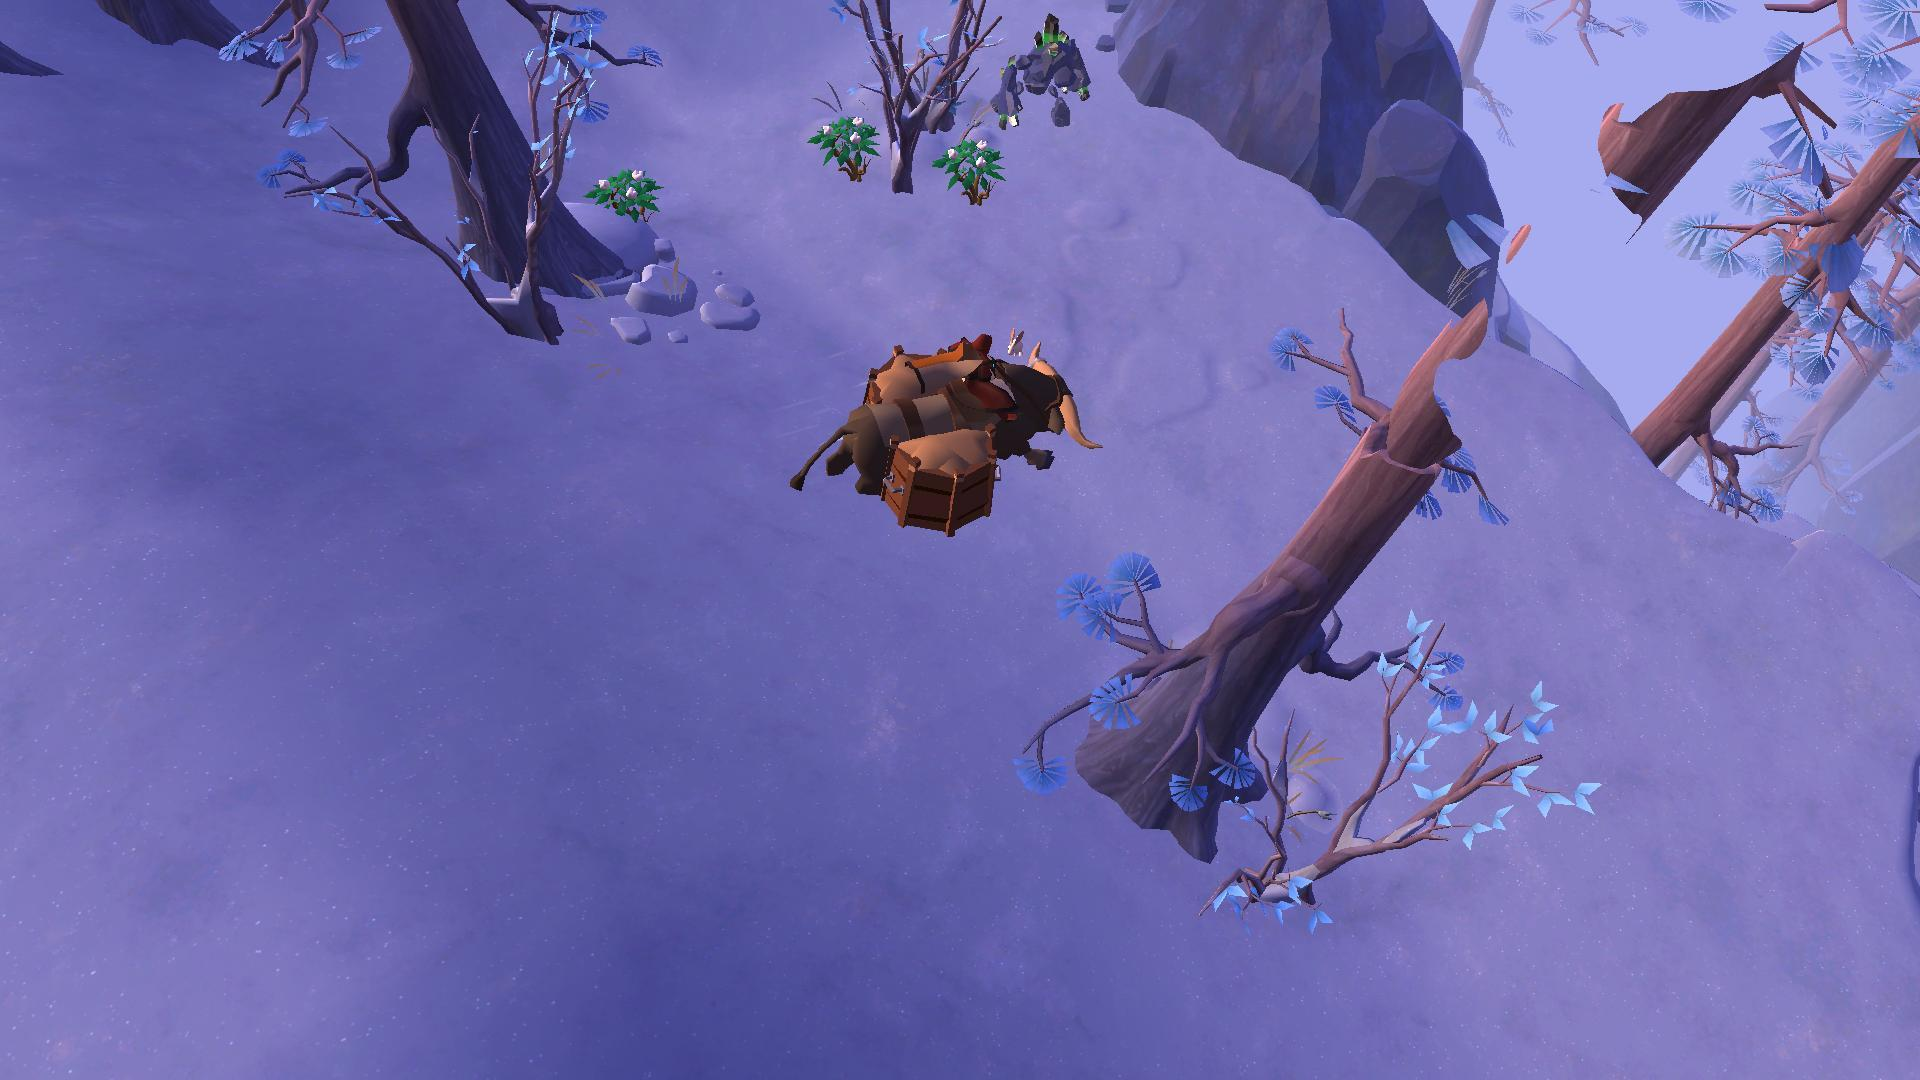fiber_t3: (924, 132, 1000, 204), (808, 113, 881, 183), (580, 164, 663, 218)
